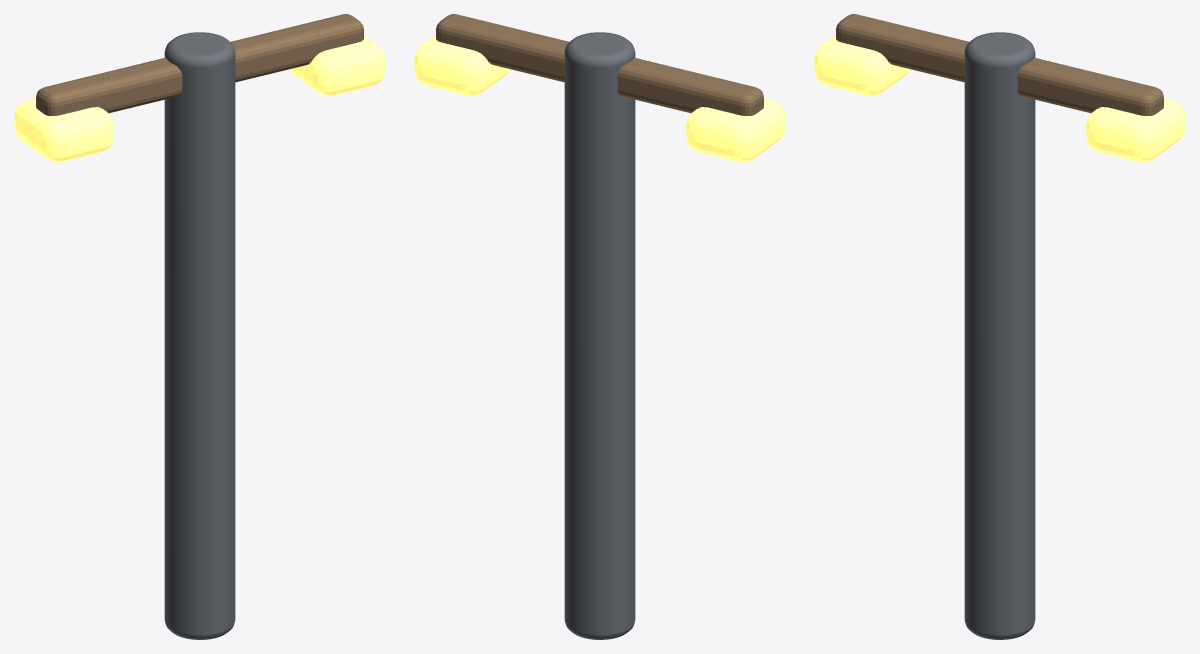
File: ped_light_double_lod0_v2.glb
3 views of the same model, side by side, from view 1: azimuth 30°, elevation 25°; view 2: azimuth 150°, elevation 25°; view 3: azimuth 330°, elevation 25° (orthographic).
Visible parts, largest first — view 1: LOD0_PED_LIGHT_DOUBLE_Post, LOD0_PED_LIGHT_DOUBLE_Arm, LOD0_PED_LIGHT_DOUBLE_Glow, LOD0_PED_LIGHT_DOUBLE_Glow.001; view 2: LOD0_PED_LIGHT_DOUBLE_Post, LOD0_PED_LIGHT_DOUBLE_Arm, LOD0_PED_LIGHT_DOUBLE_Glow, LOD0_PED_LIGHT_DOUBLE_Glow.001; view 3: LOD0_PED_LIGHT_DOUBLE_Post, LOD0_PED_LIGHT_DOUBLE_Arm, LOD0_PED_LIGHT_DOUBLE_Glow.001, LOD0_PED_LIGHT_DOUBLE_Glow.
Part boxes in pixels (bbox=[...]): LOD0_PED_LIGHT_DOUBLE_Post: bbox=[164, 32, 235, 639]; LOD0_PED_LIGHT_DOUBLE_Arm: bbox=[36, 14, 363, 115]; LOD0_PED_LIGHT_DOUBLE_Glow: bbox=[14, 98, 113, 162]; LOD0_PED_LIGHT_DOUBLE_Glow.001: bbox=[289, 35, 385, 95]; LOD0_PED_LIGHT_DOUBLE_Post: bbox=[564, 32, 635, 639]; LOD0_PED_LIGHT_DOUBLE_Arm: bbox=[436, 14, 763, 115]; LOD0_PED_LIGHT_DOUBLE_Glow: bbox=[686, 98, 785, 162]; LOD0_PED_LIGHT_DOUBLE_Glow.001: bbox=[414, 35, 510, 95]; LOD0_PED_LIGHT_DOUBLE_Post: bbox=[964, 32, 1035, 639]; LOD0_PED_LIGHT_DOUBLE_Arm: bbox=[836, 14, 1163, 115]; LOD0_PED_LIGHT_DOUBLE_Glow.001: bbox=[1086, 98, 1185, 162]; LOD0_PED_LIGHT_DOUBLE_Glow: bbox=[814, 35, 910, 95].
Size of what is drawn, in the model's own units: 1.56 by 2.55 by 0.34.
